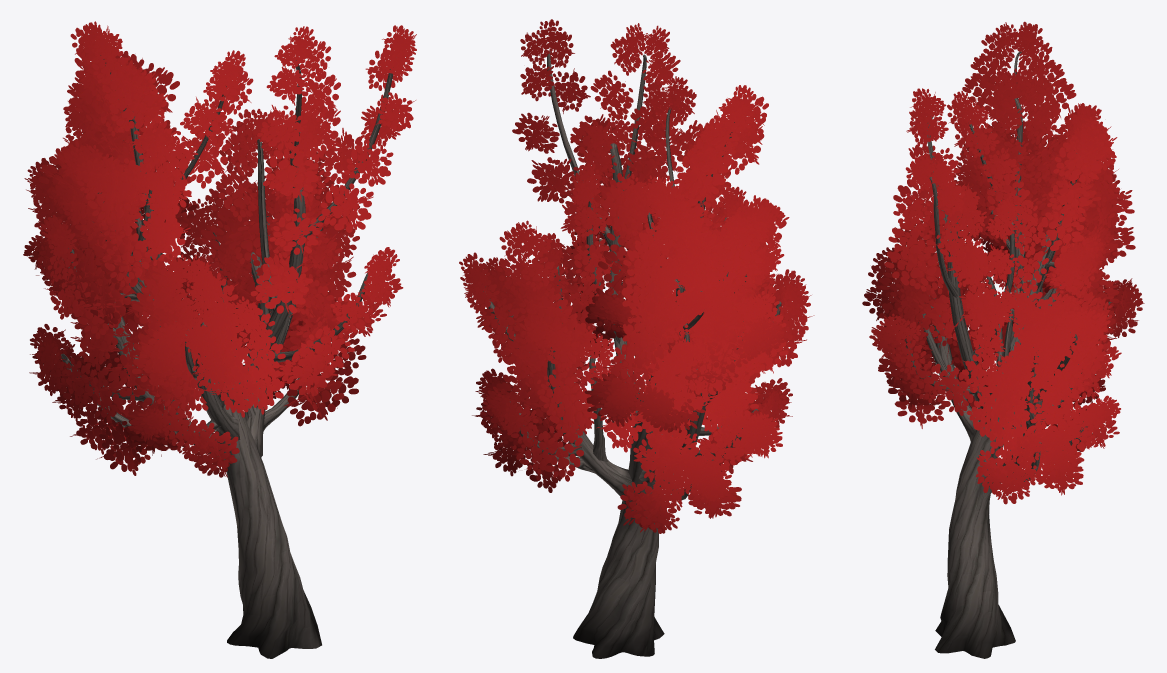
The model's file is n_twistedtree_2.glb.
3 renders of one model, left to right at view 1: azimuth 30°, elevation 25°; view 2: azimuth 150°, elevation 25°; view 3: azimuth 270°, elevation 25°, orthographic. The views are drawn at different scales.
Visible parts, largest first — view 1: TwistedTree_2; view 2: TwistedTree_2; view 3: TwistedTree_2.
Boxes of the visible parts, x1,y1,x2,y2 form: TwistedTree_2: [23, 21, 416, 658]; TwistedTree_2: [459, 19, 814, 658]; TwistedTree_2: [862, 21, 1144, 658].
Bounding box in the file's own units: 10.56 × 18.95 × 9.2.
2 materials, 2 textured.
